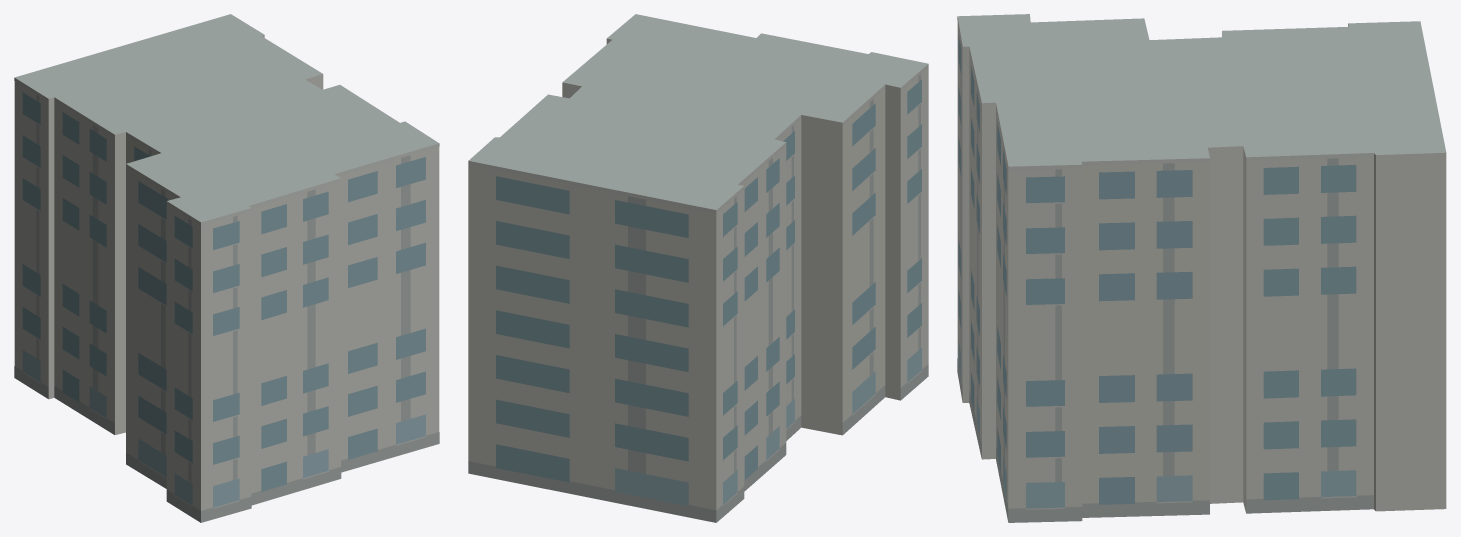
Rendered from survey-upis-32825528.glb.
3 views of the same model, side by side, from view 1: azimuth 30°, elevation 25°; view 2: azimuth 150°, elevation 25°; view 3: azimuth 270°, elevation 25° (orthographic). The views are drawn at different scales.
Visible parts, largest first — view 1: survey-upis-32825528.tmp; view 2: survey-upis-32825528.tmp; view 3: survey-upis-32825528.tmp.
Part boxes in pixels (x1,y1,x2,y2): survey-upis-32825528.tmp: (14, 14, 439, 522); survey-upis-32825528.tmp: (468, 14, 928, 522); survey-upis-32825528.tmp: (957, 14, 1446, 522).
Size of the model in its own units: 19.39 by 21.1 by 26.24.
